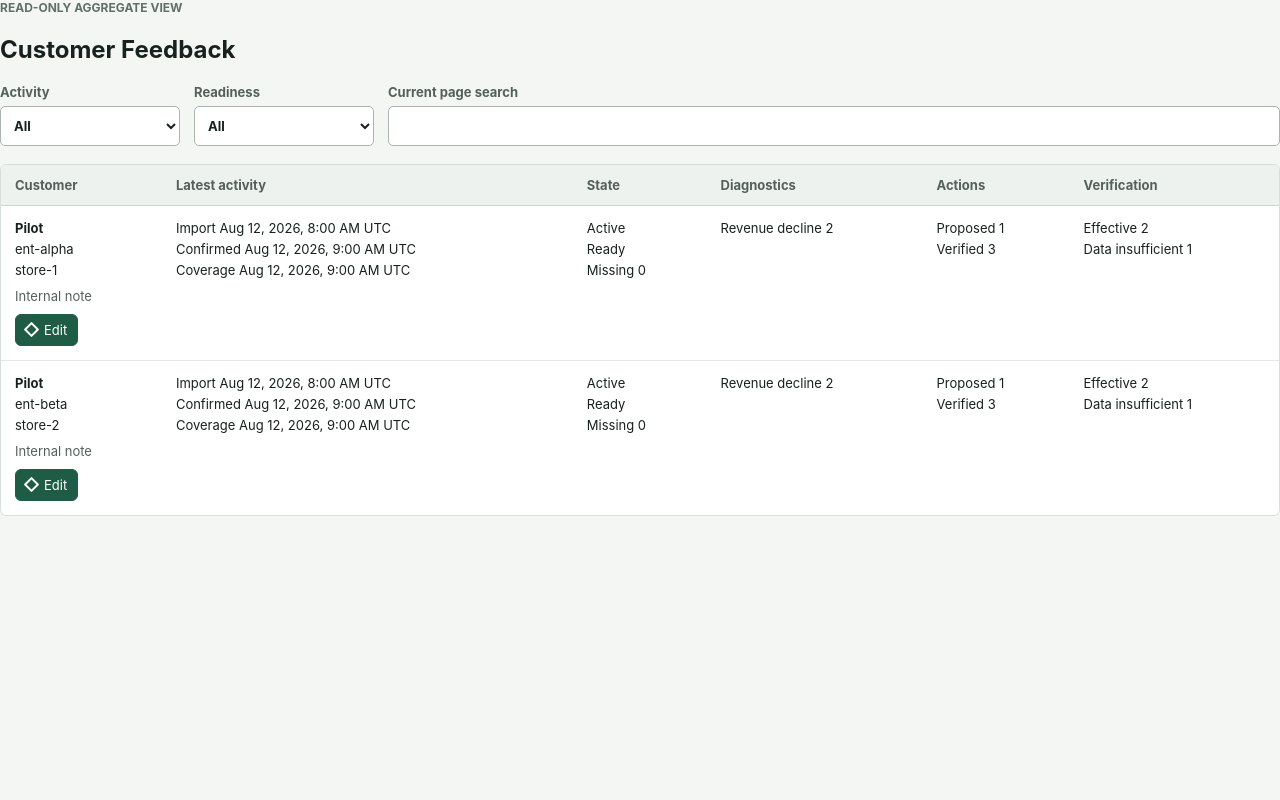
Test: read-only feedback workbench › removes all local edit controls after metadata saving is forbidden without requesting authentication
Click the button with aria-label "Edit customer details": (47, 330) left=15, top=314, right=78, bottom=346
(page scrolled)
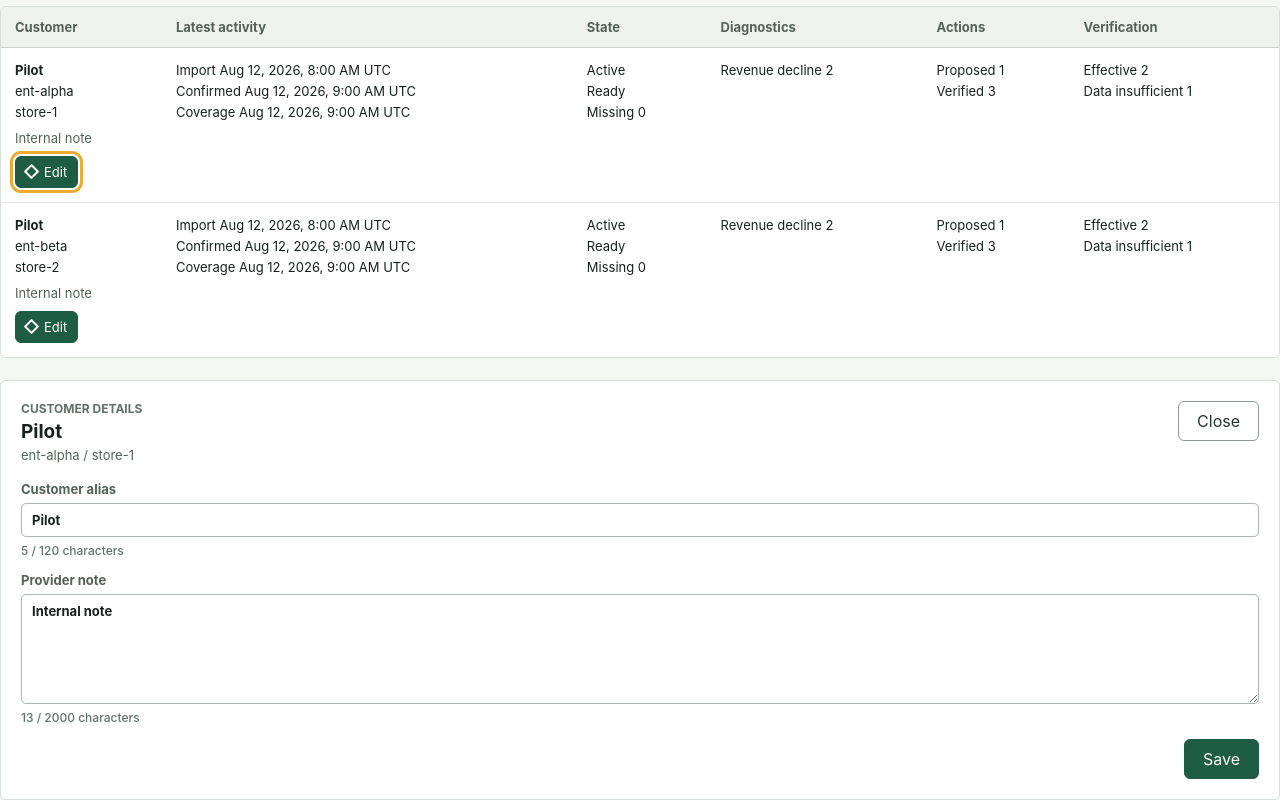
Click the button "Save": (1222, 759) left=1184, top=739, right=1259, bottom=779
(page scrolled)
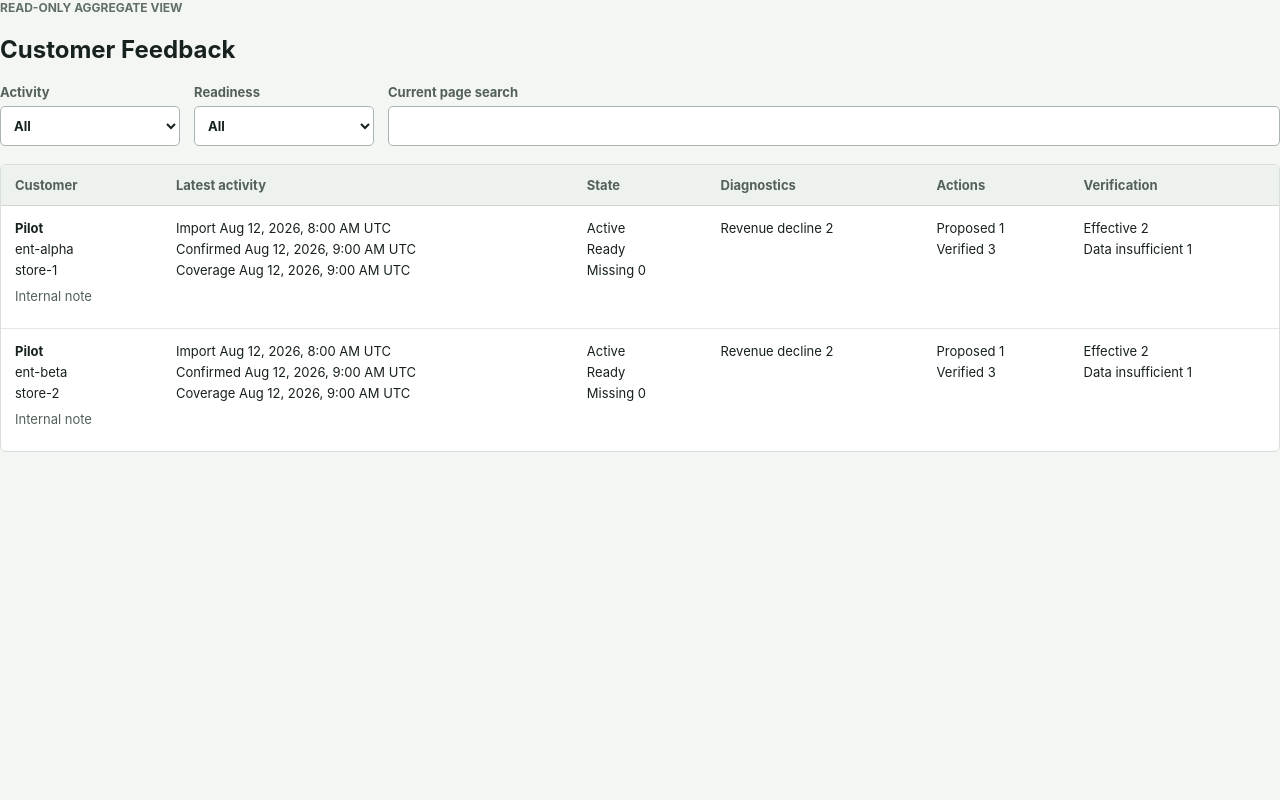
Expected: the button "Save" is gone
